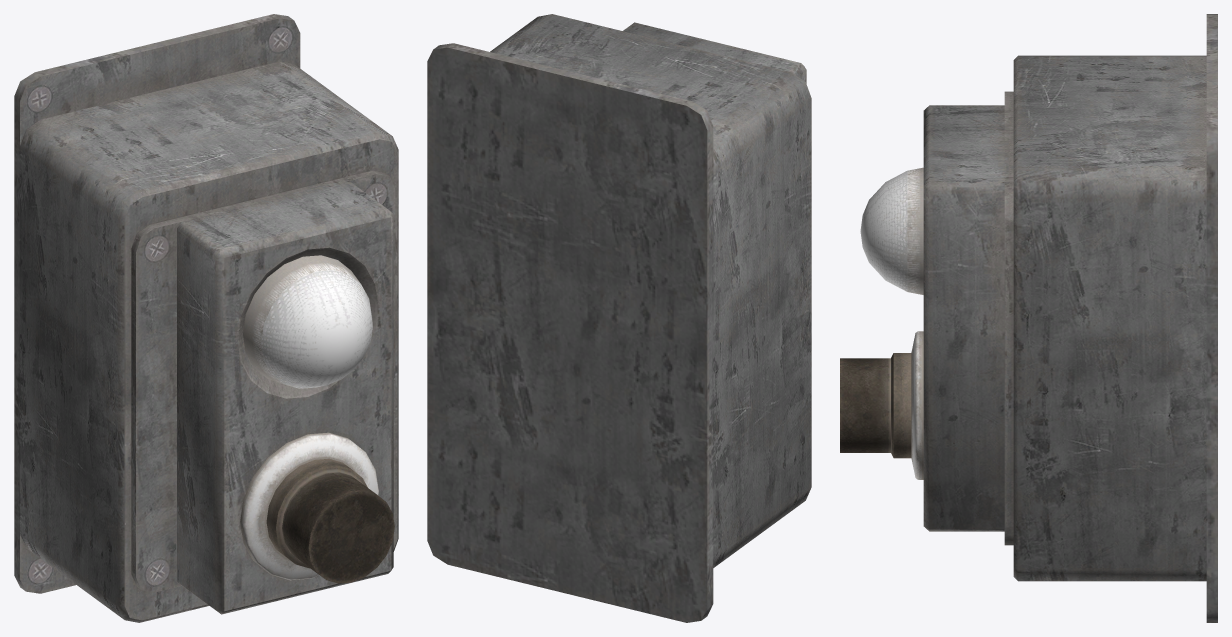
File: gateSwitch01.FBX
3 renders of one model, left to right at view 1: azimuth 30°, elevation 25°; view 2: azimuth 150°, elevation 25°; view 3: azimuth 270°, elevation 25°, orthographic. The views are drawn at different scales.
Visible parts, largest first — view 1: SM_GateSwitch01; view 2: SM_GateSwitch01; view 3: SM_GateSwitch01.
Part boxes in pixels (bbox=[...]): SM_GateSwitch01: bbox=[14, 14, 398, 622]; SM_GateSwitch01: bbox=[427, 14, 811, 622]; SM_GateSwitch01: bbox=[840, 14, 1217, 622].
Size of the model in its own units: 13.63 by 24.04 by 16.65.
1 material, 1 textured.
